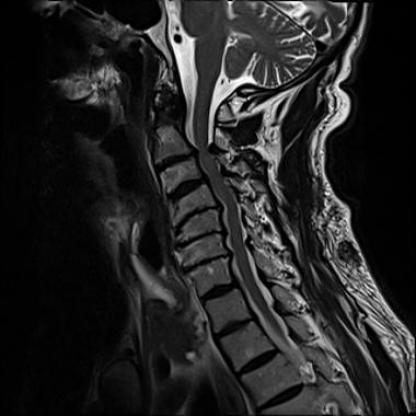Disc Bulgerotation: (182, 250, 231, 276), (164, 180, 206, 198), (153, 153, 197, 170), (169, 209, 218, 222), (176, 233, 221, 244)
Osteophytesrotation: (181, 251, 229, 276), (153, 153, 197, 170), (164, 180, 206, 197), (169, 208, 218, 222), (177, 233, 221, 244)
